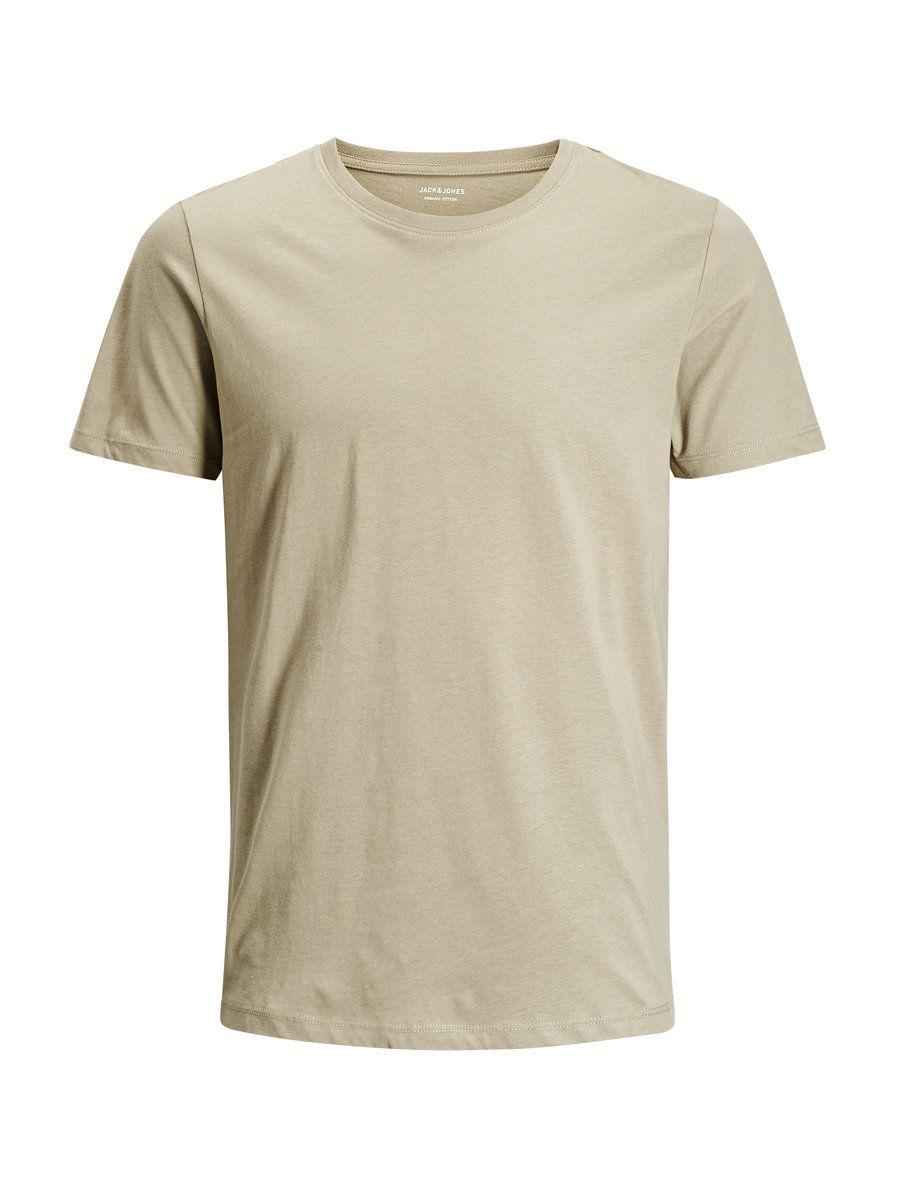teeshirt: (20, 105, 899, 1064)
